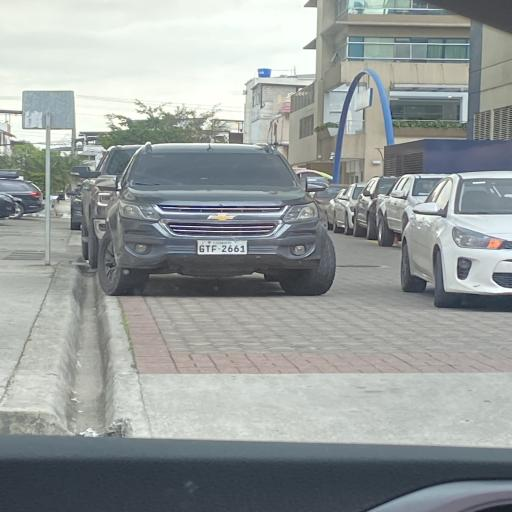license_plate: (197, 241, 247, 254)
